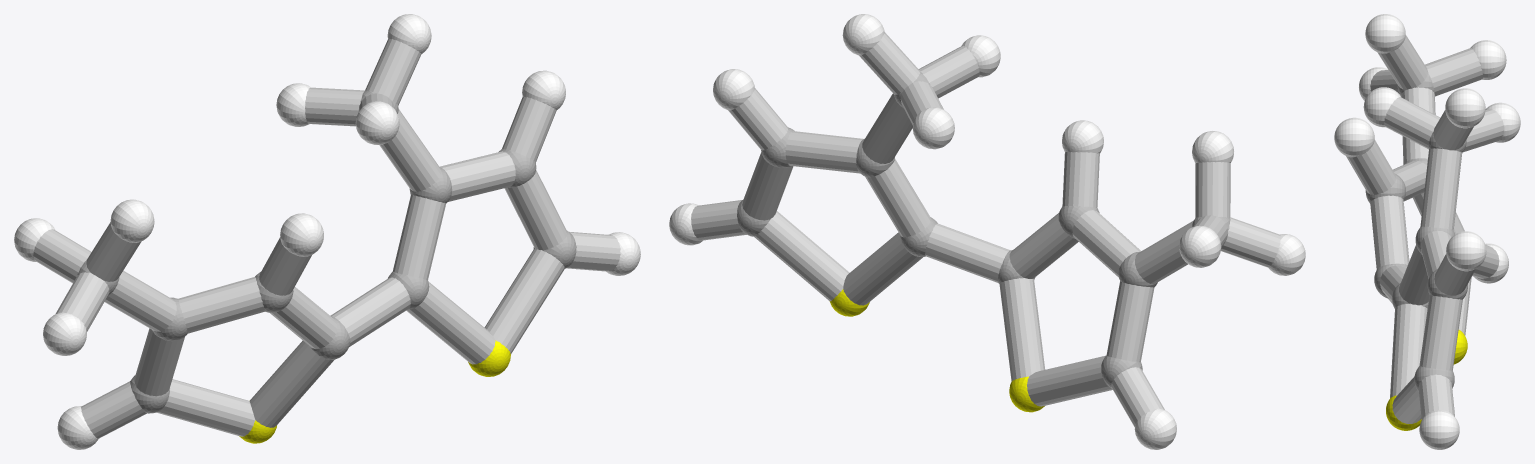
File: Methylthiophene_Phi_30_Theta_150_Methylthiophene.glb
3 views of the same model, side by side, from view 1: azimuth 30°, elevation 25°; view 2: azimuth 150°, elevation 25°; view 3: azimuth 270°, elevation 25° (orthographic). The views are drawn at different scales.
Visible parts, largest first — view 1: grp7965, grp3621, grp1, grp7241; view 2: grp7965, grp3621, grp1, grp7241; view 3: grp7965, grp3621, grp1, grp7241.
Part boxes in pixels (x1,y1,x2,y2): grp7965: [33, 39, 620, 438]; grp3621: [14, 14, 640, 449]; grp1: [77, 90, 576, 413]; grp7241: [239, 340, 510, 443]; grp7965: [691, 32, 1280, 427]; grp3621: [669, 14, 1305, 449]; grp1: [737, 72, 1230, 388]; grp7241: [829, 289, 1044, 412]; grp7965: [1346, 35, 1504, 423]; grp3621: [1334, 14, 1520, 449]; grp1: [1365, 72, 1467, 391]; grp7241: [1386, 330, 1467, 430].
Bounding box in the file's own units: 9.82 × 5.68 × 2.77.
